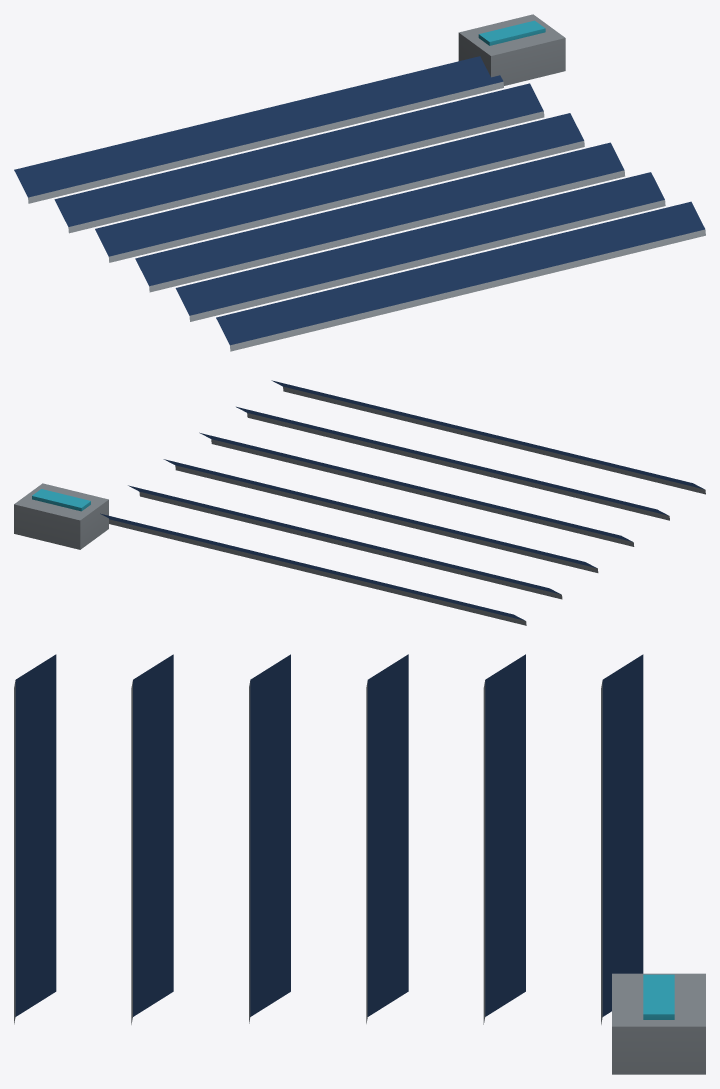
Rendered from plant_solar_l1.fbx.
3 renders of one model, top to bottom at view 1: azimuth 30°, elevation 25°; view 2: azimuth 150°, elevation 25°; view 3: azimuth 270°, elevation 25°, orthographic. The views are drawn at different scales.
Visible parts, largest first — view 1: plant_solar_l1; view 2: plant_solar_l1; view 3: plant_solar_l1.
Boxes of the visible parts, <box> form: plant_solar_l1: <box>14,14,705,351</box>; plant_solar_l1: <box>14,380,705,625</box>; plant_solar_l1: <box>14,654,705,1074</box>.
Bounding box in the file's own units: 58 × 3.8 × 44.2.
